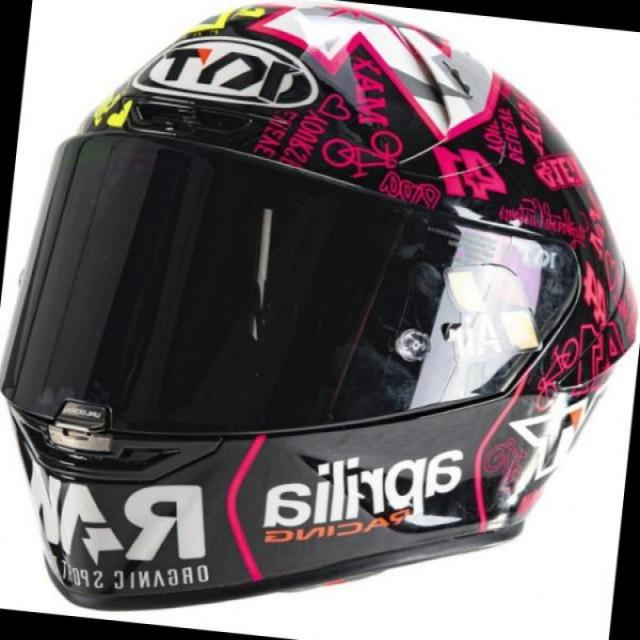Helmet: (9, 22, 618, 572)
